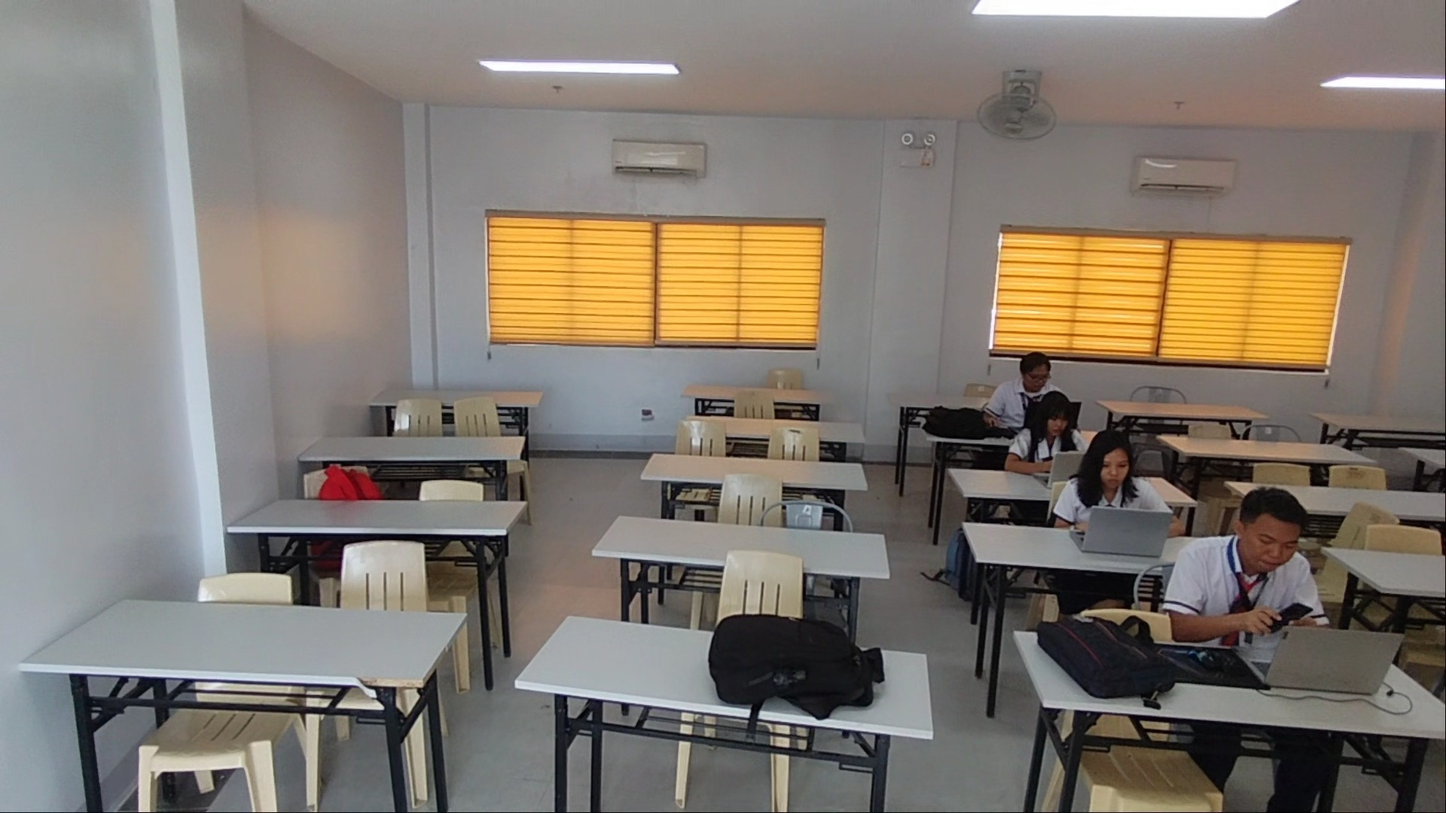with-student: (1011, 478, 1446, 813), (962, 426, 1240, 597), (947, 388, 1199, 521), (920, 347, 1111, 467)
